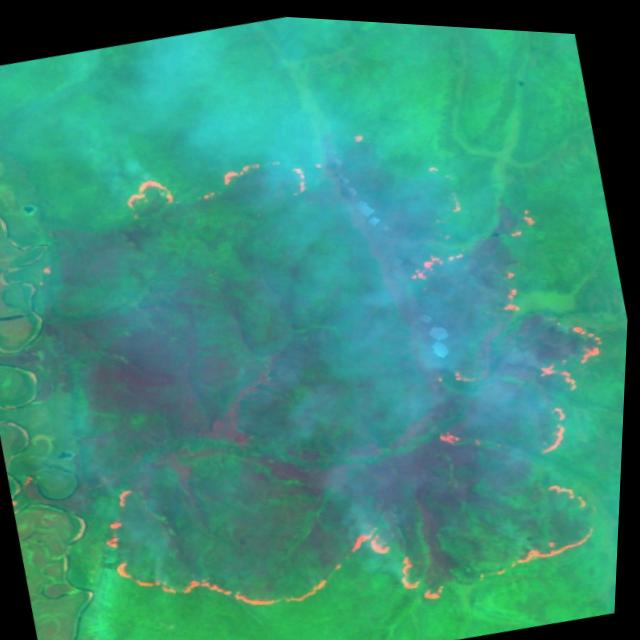fire: (19, 63, 638, 640)
